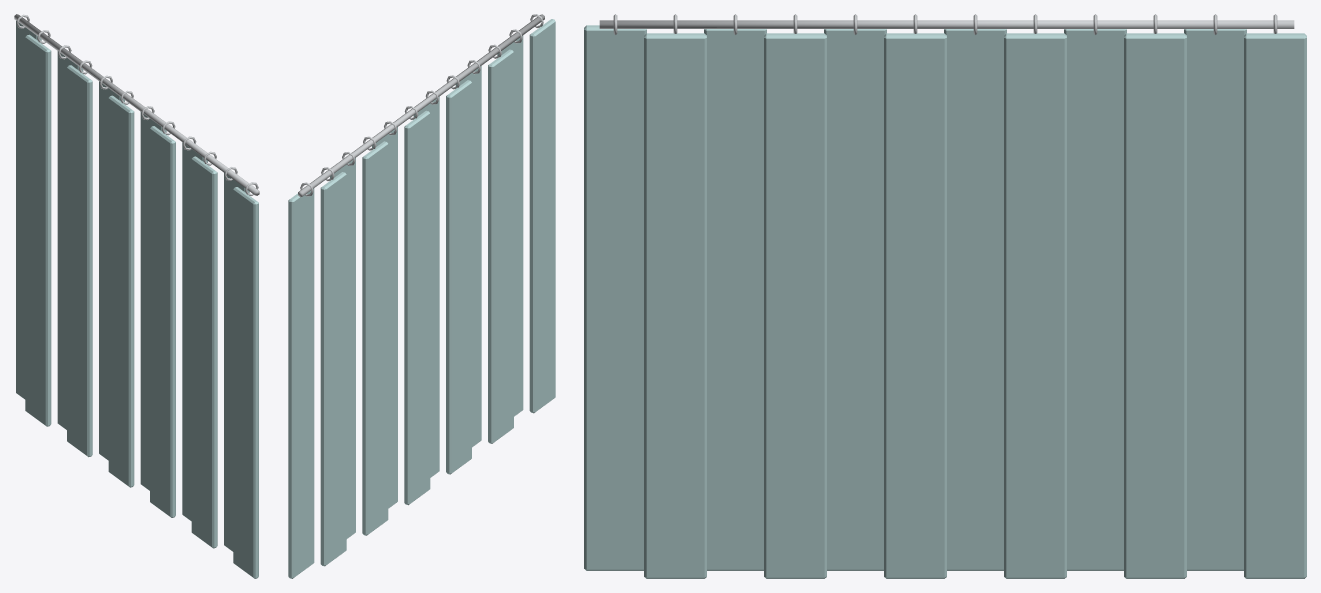
The model's file is v_bp_curtain.glb.
The picture shows the model from 3 angles, left to right: view 1: azimuth 30°, elevation 25°; view 2: azimuth 150°, elevation 25°; view 3: azimuth 270°, elevation 25°; orthographic projection. The views are drawn at different scales.
Parts seen in each view (by area): view 1: Curtain; view 2: Curtain; view 3: Curtain.
Part boxes in pixels (box(x1,y1,x2,y2)): Curtain: box(14, 14, 259, 578); Curtain: box(288, 14, 555, 578); Curtain: box(584, 14, 1306, 578).
Bounding box in the file's own units: 0.09 × 1.96 × 2.29.
